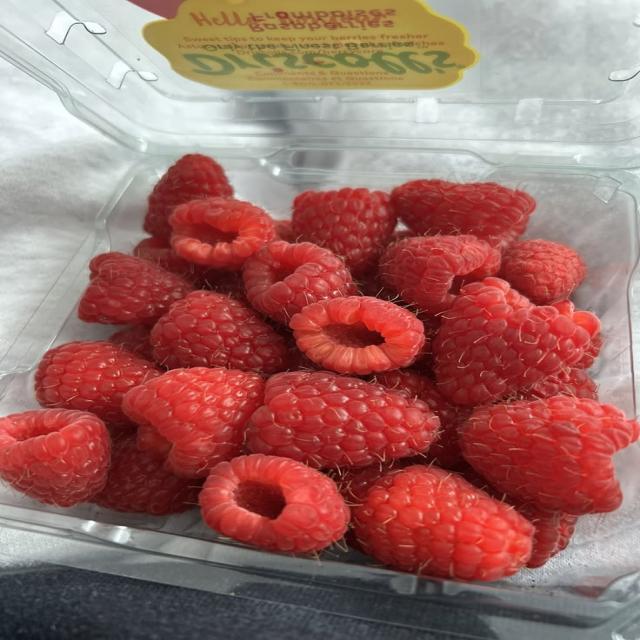raspberry: (433, 278, 599, 406), (460, 397, 639, 514), (354, 466, 533, 581), (247, 372, 439, 468), (123, 368, 264, 477), (200, 455, 349, 553), (458, 465, 579, 568), (151, 291, 286, 373), (35, 341, 161, 426), (0, 409, 110, 506), (290, 297, 425, 375), (391, 180, 535, 249), (373, 370, 471, 469), (380, 235, 500, 314), (243, 241, 357, 324), (293, 188, 396, 277), (92, 435, 201, 516), (78, 252, 193, 324), (169, 198, 276, 270), (144, 154, 233, 240), (134, 238, 246, 300), (500, 239, 586, 304), (329, 458, 415, 512), (329, 458, 415, 506), (515, 503, 578, 568), (133, 237, 208, 287), (552, 299, 603, 369), (518, 367, 598, 400), (274, 325, 321, 371), (200, 269, 247, 303), (109, 325, 153, 361), (574, 331, 603, 369), (275, 219, 298, 243)
